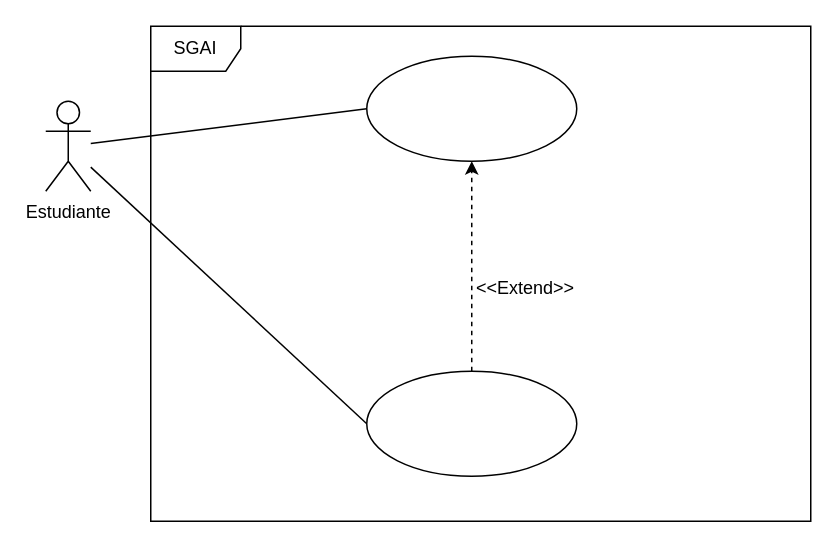
Image size: 837x548. Some labels were removed from this diagram. The shapes that lost their labels are listed below. From the top down, each one's centre as x and y in pixels, then its label:
(x=471, y=108): Visualizar malla interactiva con estado de asignaturas
(x=471, y=423): Consultar cadena de prerequisitos de una asignatura
